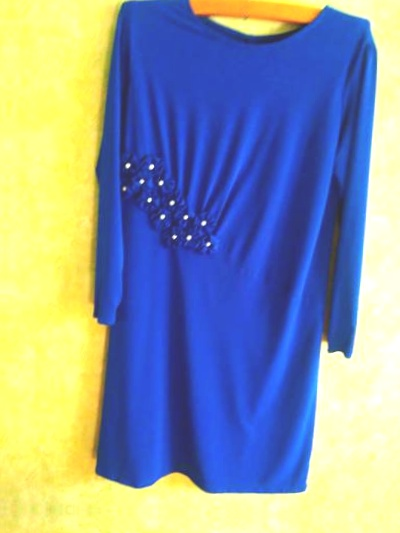Dress: (55, 0, 390, 506), (41, 522, 376, 533)
